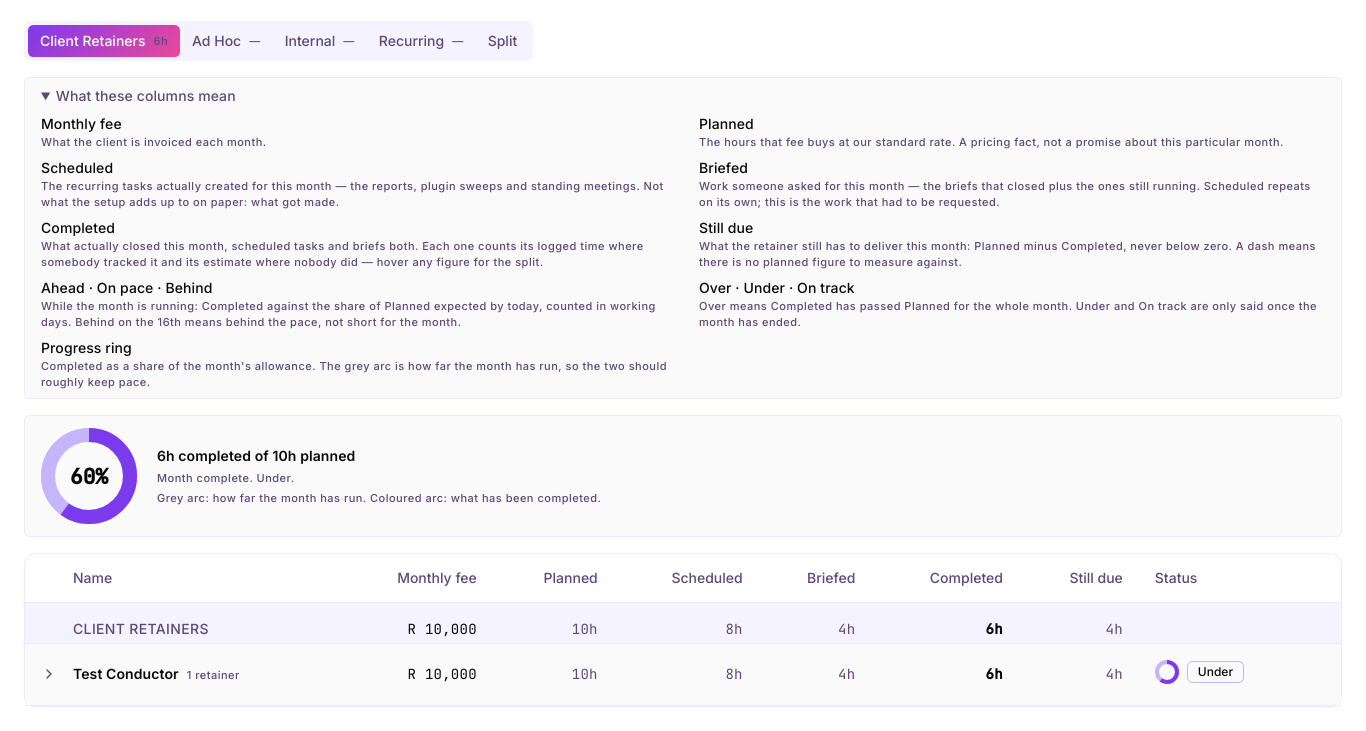
Test: RetainersList sync controls › drills from the client rollup down to its retainers
(page scrolled)
What coordinates should you click on to do the following:
click the button with aria-label "Show retainers for Test Conductor"
I would click on:
 (683, 674)
Its box is [25,643,1341,705].
(page scrolled)
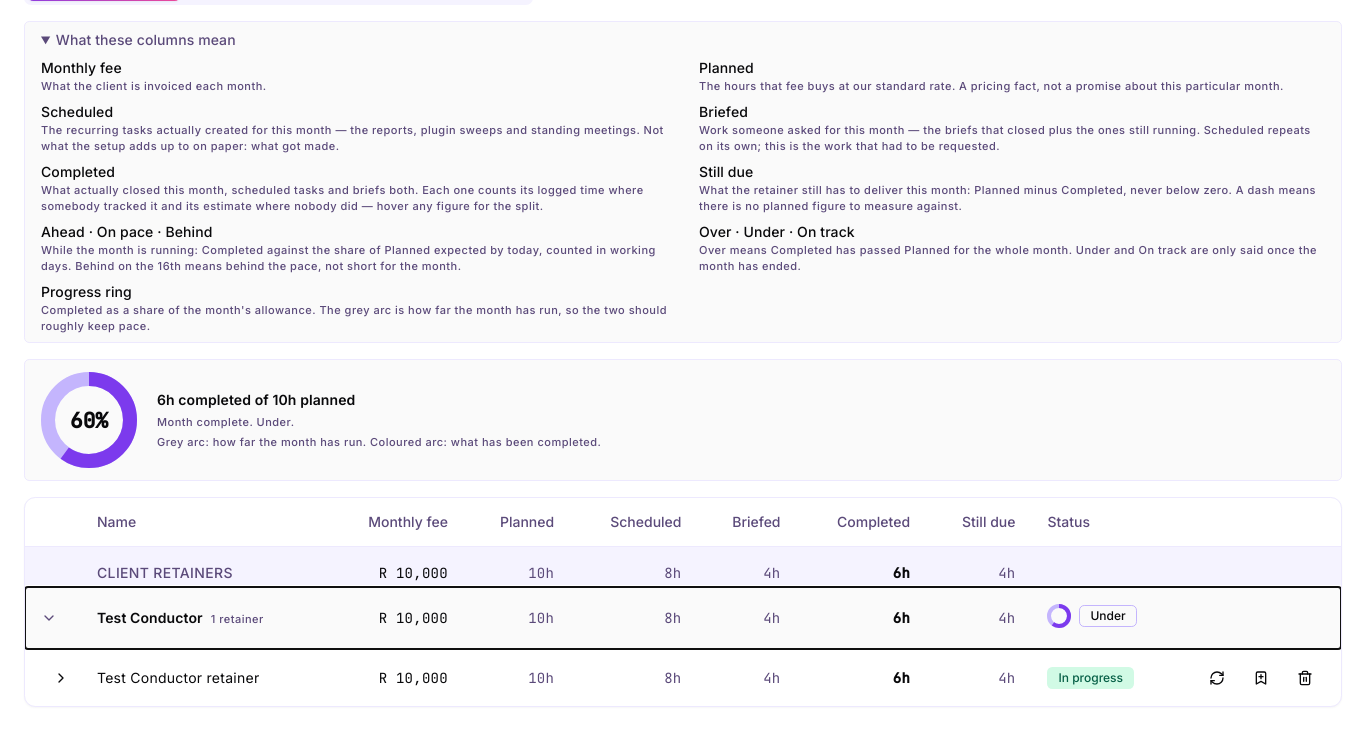
Now the button named "Sync Test Conductor retainer" is shown, box [1197,658,1237,698]
